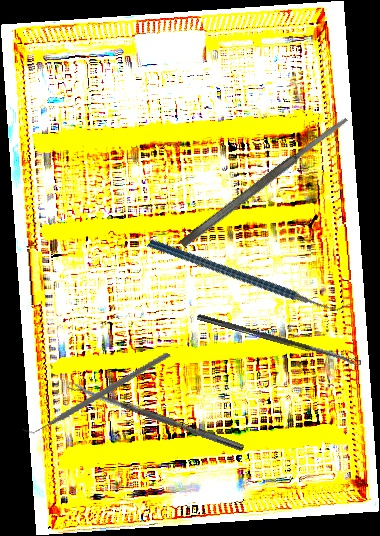Chopper: (146, 179, 353, 369), (18, 307, 172, 476)
Spatula Surgical: (178, 114, 351, 250)
Surgical Spoon: (67, 380, 245, 452), (196, 313, 362, 368)
